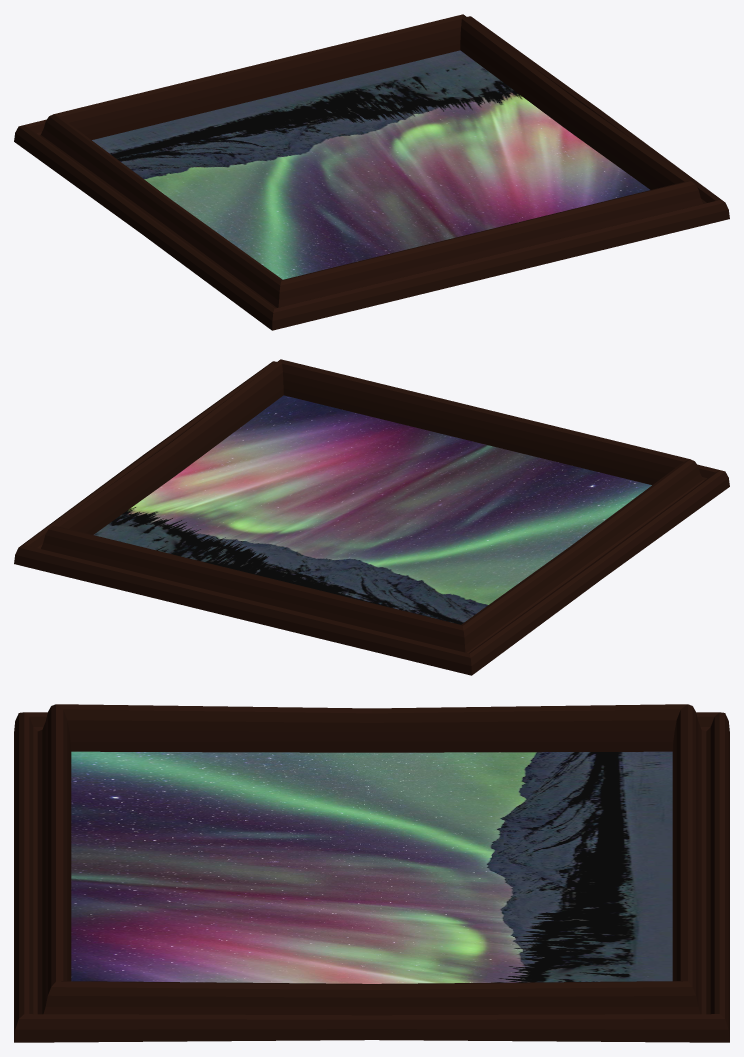
The model's file is Rahmen Kopie.fbx.
3 renders of one model, top to bottom at view 1: azimuth 30°, elevation 25°; view 2: azimuth 150°, elevation 25°; view 3: azimuth 270°, elevation 25°, orthographic. The views are drawn at different scales.
Visible parts, largest first — view 1: Plane; view 2: Plane; view 3: Plane.
Part boxes in pixels (x1=…): Plane: x1=14, y1=14, x2=729, y2=330; Plane: x1=14, y1=359, x2=729, y2=675; Plane: x1=14, y1=704, x2=729, y2=1042.
Bounding box in the file's own units: 28.53 × 1.93 × 27.68.
